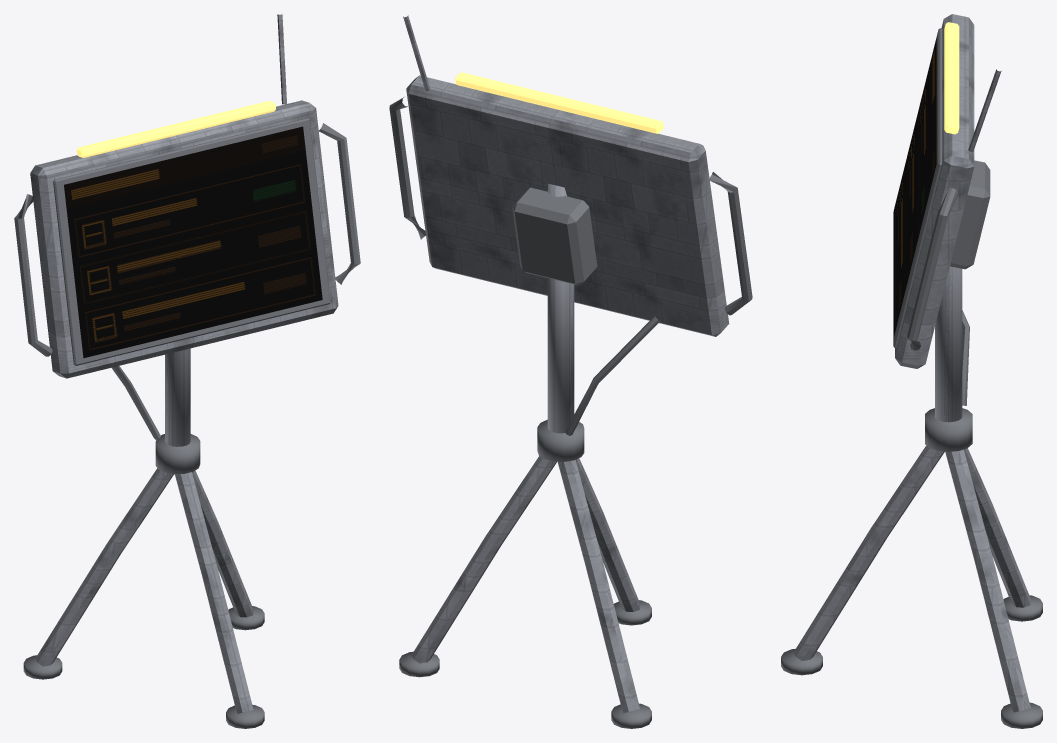
File: job_board.glb
3 views of the same model, side by side, from view 1: azimuth 30°, elevation 25°; view 2: azimuth 150°, elevation 25°; view 3: azimuth 270°, elevation 25° (orthographic). The views are drawn at different scales.
Visible parts, largest first — view 1: JobBoard; view 2: JobBoard; view 3: JobBoard.
Boxes of the visible parts, bbox=[...] form: JobBoard: bbox=[14, 14, 360, 728]; JobBoard: bbox=[389, 15, 752, 728]; JobBoard: bbox=[781, 14, 1042, 728].
Size of the model in its own units: 1.19 by 2.1 by 0.75.
Materials: 4 (2 with a texture image).
